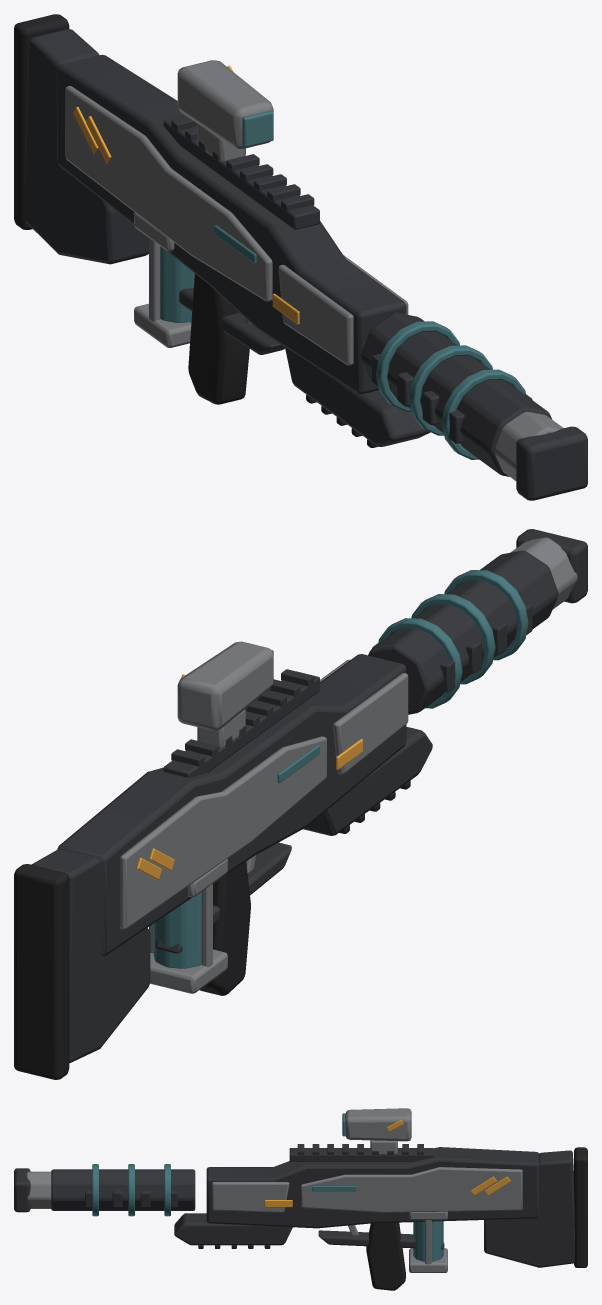
File: Weapon_IonCarbine.fbx
The picture shows the model from 3 angles, top to bottom: view 1: azimuth 30°, elevation 25°; view 2: azimuth 150°, elevation 25°; view 3: azimuth 270°, elevation 25°; orthographic projection. The views are drawn at different scales.
Parts seen in each view (by area): view 1: Body, Spinner_Rings, Glow; view 2: Body, Spinner_Rings, Glow; view 3: Body, Glow, Spinner_Rings.
Boxes of the visible parts, bbox=[...] form: Body: bbox=[14, 14, 587, 500]; Spinner_Rings: bbox=[376, 321, 525, 459]; Glow: bbox=[160, 110, 273, 322]; Body: bbox=[14, 529, 587, 1079]; Spinner_Rings: bbox=[378, 570, 528, 708]; Glow: bbox=[153, 650, 319, 968]; Body: bbox=[14, 1108, 587, 1290]; Glow: bbox=[312, 1113, 443, 1261]; Spinner_Rings: bbox=[92, 1164, 170, 1216].
Bounding box in the file's own units: 0.094 × 0.3491 × 1.03.
